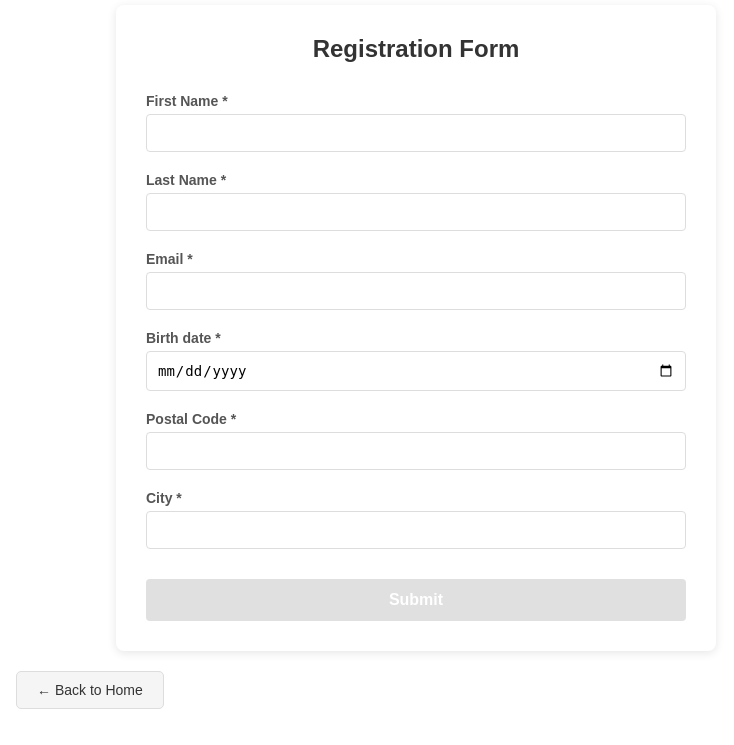
Scenario: Register Component › form validation works correctly
Type "J" into the field labelled "First Name *".
click(416, 133); type("J")  # box [146,114,686,152]
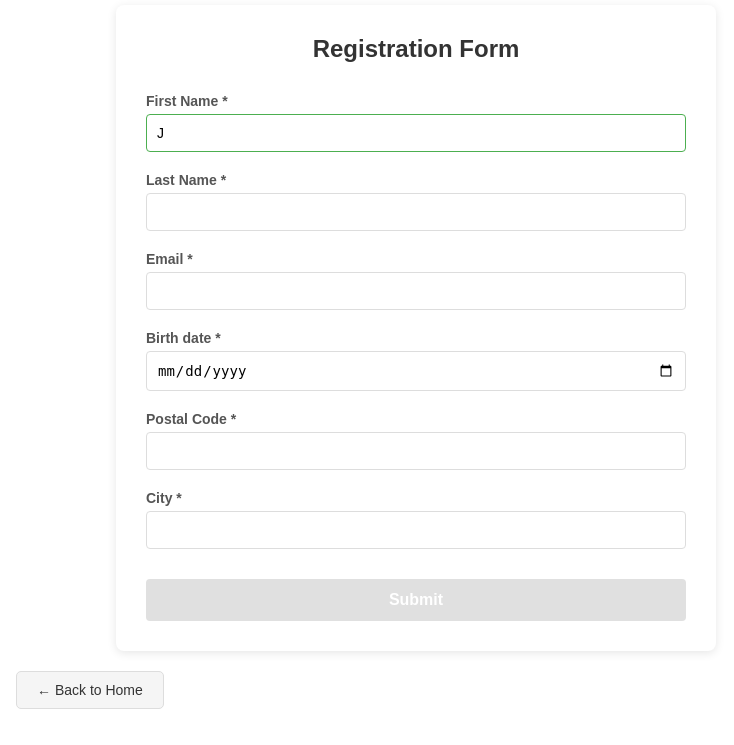
Press Tab
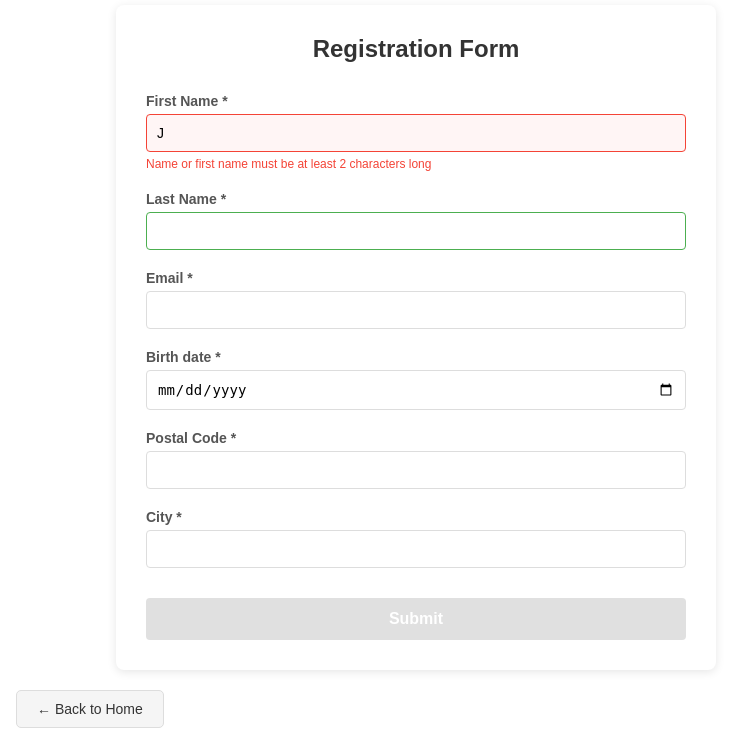
Now the text "Name or first name must be at least 2 characters long" is shown, box [146,157,432,171]
